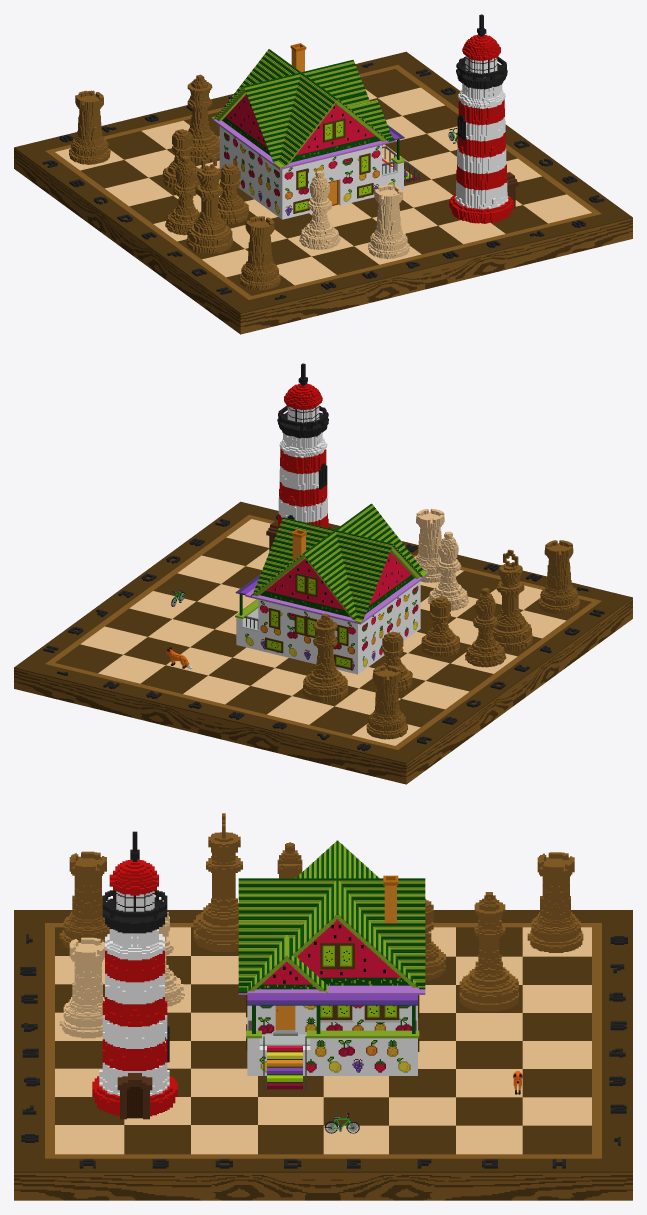
3 views of the same model, one above another, from view 1: azimuth 30°, elevation 25°; view 2: azimuth 150°, elevation 25°; view 3: azimuth 270°, elevation 25° (orthographic). The views are drawn at different scales.
Parts seen in each view (by area): view 1: TERRAIN_CHESS, HOUSE_FRUITS, OBJRANDOM_FARO; view 2: TERRAIN_CHESS, HOUSE_FRUITS, OBJRANDOM_FARO; view 3: TERRAIN_CHESS, HOUSE_FRUITS, OBJRANDOM_FARO.
Part boxes in pixels (box(x1,y1,x2,y2)): TERRAIN_CHESS: box(14, 51, 632, 334); HOUSE_FRUITS: box(211, 43, 419, 219); OBJRANDOM_FARO: box(449, 14, 518, 223); TERRAIN_CHESS: box(14, 501, 632, 784); HOUSE_FRUITS: box(235, 503, 429, 674); OBJRANDOM_FARO: box(266, 363, 328, 551); TERRAIN_CHESS: box(14, 813, 632, 1200); HOUSE_FRUITS: box(238, 840, 425, 1090); OBJRANDOM_FARO: box(92, 831, 177, 1119).
Bounding box in the file's own units: 4000 × 2164 × 4000.
Materials: 22 (21 with a texture image).
